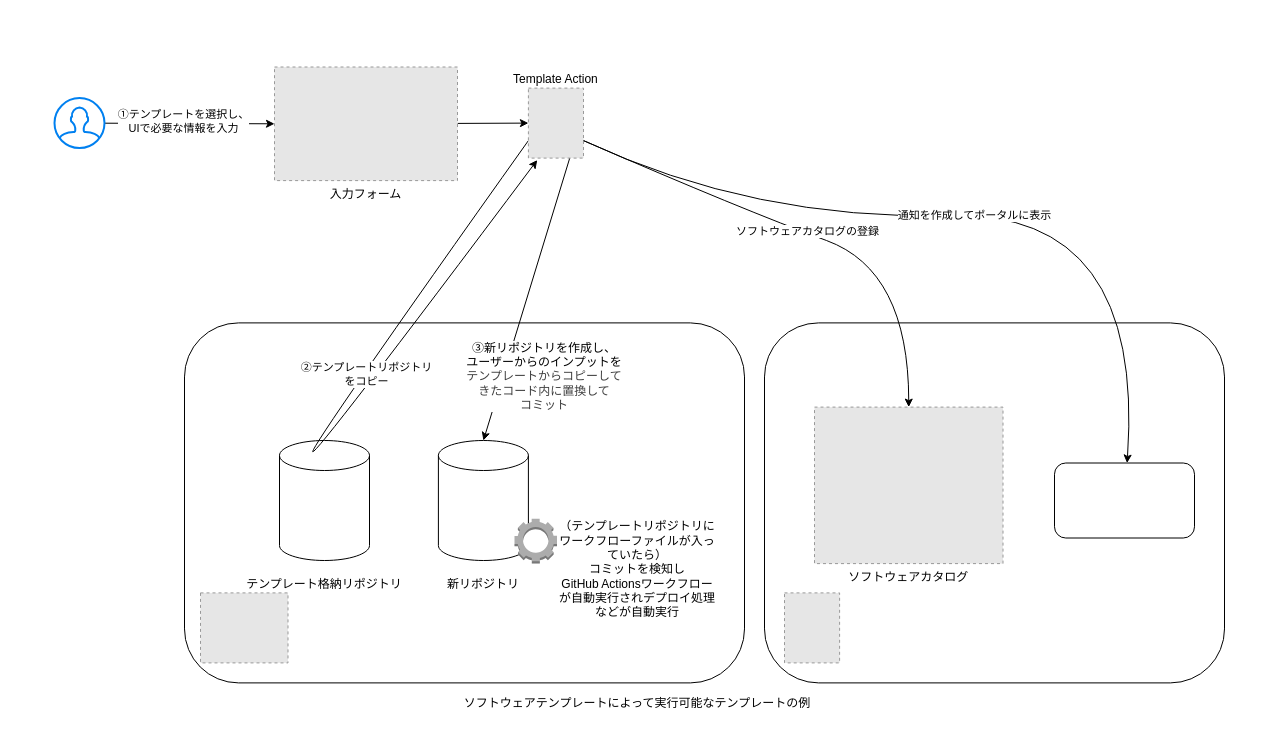
This 1274x744 diagram has some shape labels left out. Grey dashed boxes stand in for pictures. The shapes that lost their labels are listed below. From the top down, each one's box as (x1, y1, x2, y2) in pixels, then its label:
(53, 97, 105, 149): 開発ユーザー
(1054, 462, 1194, 538): Notification
